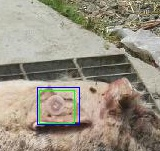text: (39, 90, 74, 123)
